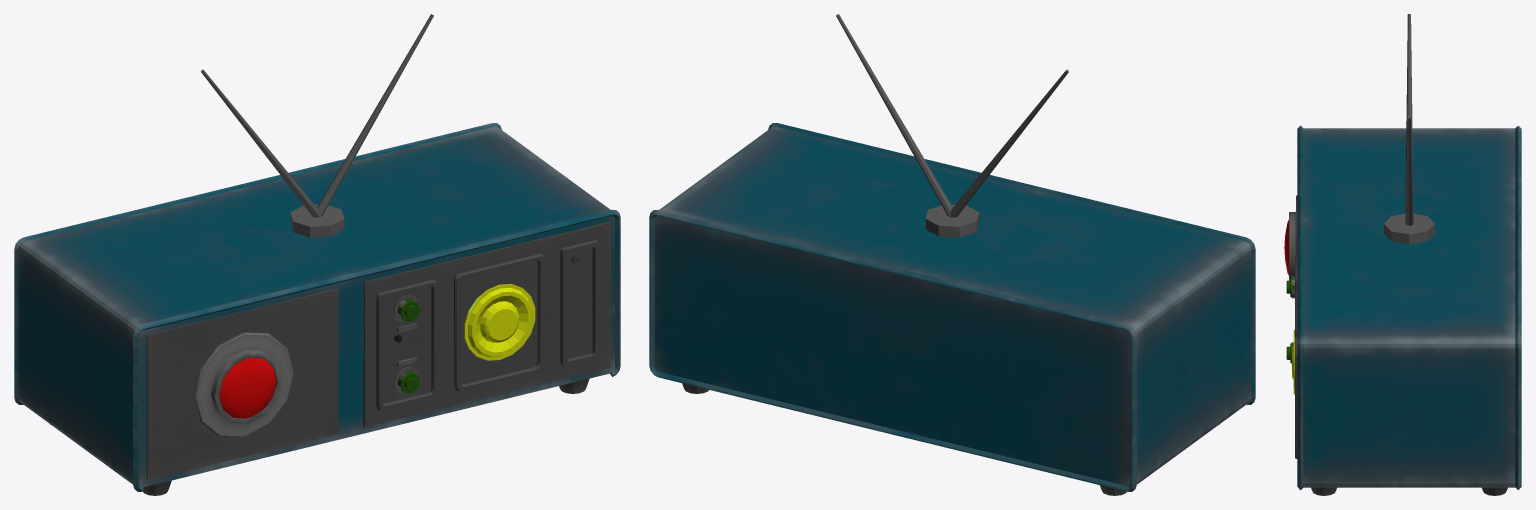
The model's file is Oscilloscope .fbx.
The picture shows the model from 3 angles, left to right: view 1: azimuth 30°, elevation 25°; view 2: azimuth 150°, elevation 25°; view 3: azimuth 270°, elevation 25°; orthographic projection. The views are drawn at different scales.
Parts seen in each view (by area): view 1: Oscilloscope; view 2: Oscilloscope; view 3: Oscilloscope.
Boxes of the visible parts, <box> form: Oscilloscope: <box>14,14,620,495</box>; Oscilloscope: <box>649,14,1255,495</box>; Oscilloscope: <box>1284,14,1521,495</box>.
Size of the model in its own units: 50 by 35.6 by 23.
